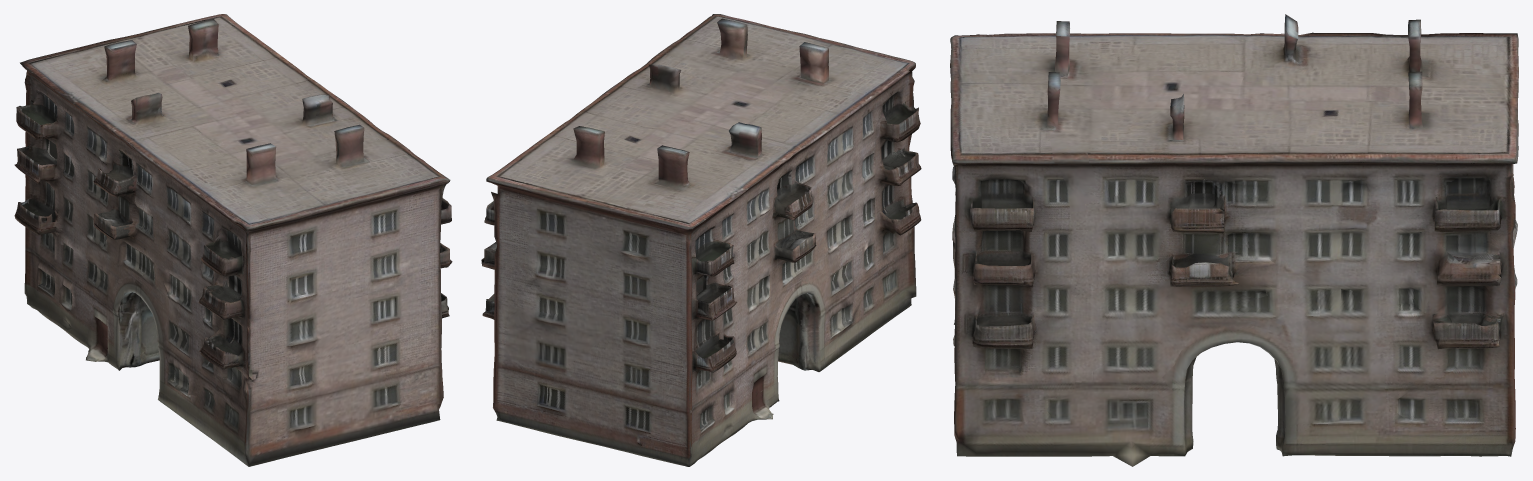
File: bld_st.glb
The picture shows the model from 3 angles, left to right: view 1: azimuth 30°, elevation 25°; view 2: azimuth 150°, elevation 25°; view 3: azimuth 270°, elevation 25°; orthographic projection. The views are drawn at different scales.
Visible parts, largest first — view 1: body|material_0; view 2: body|material_0; view 3: body|material_0.
Part boxes in pixels (<box>): body|material_0: <box>14,14,452,466</box>; body|material_0: <box>481,14,921,466</box>; body|material_0: <box>950,14,1518,466</box>.
Size of the model in its own units: 15.44 by 17.43 by 25.92.
Materials: 1 (1 with a texture image).
